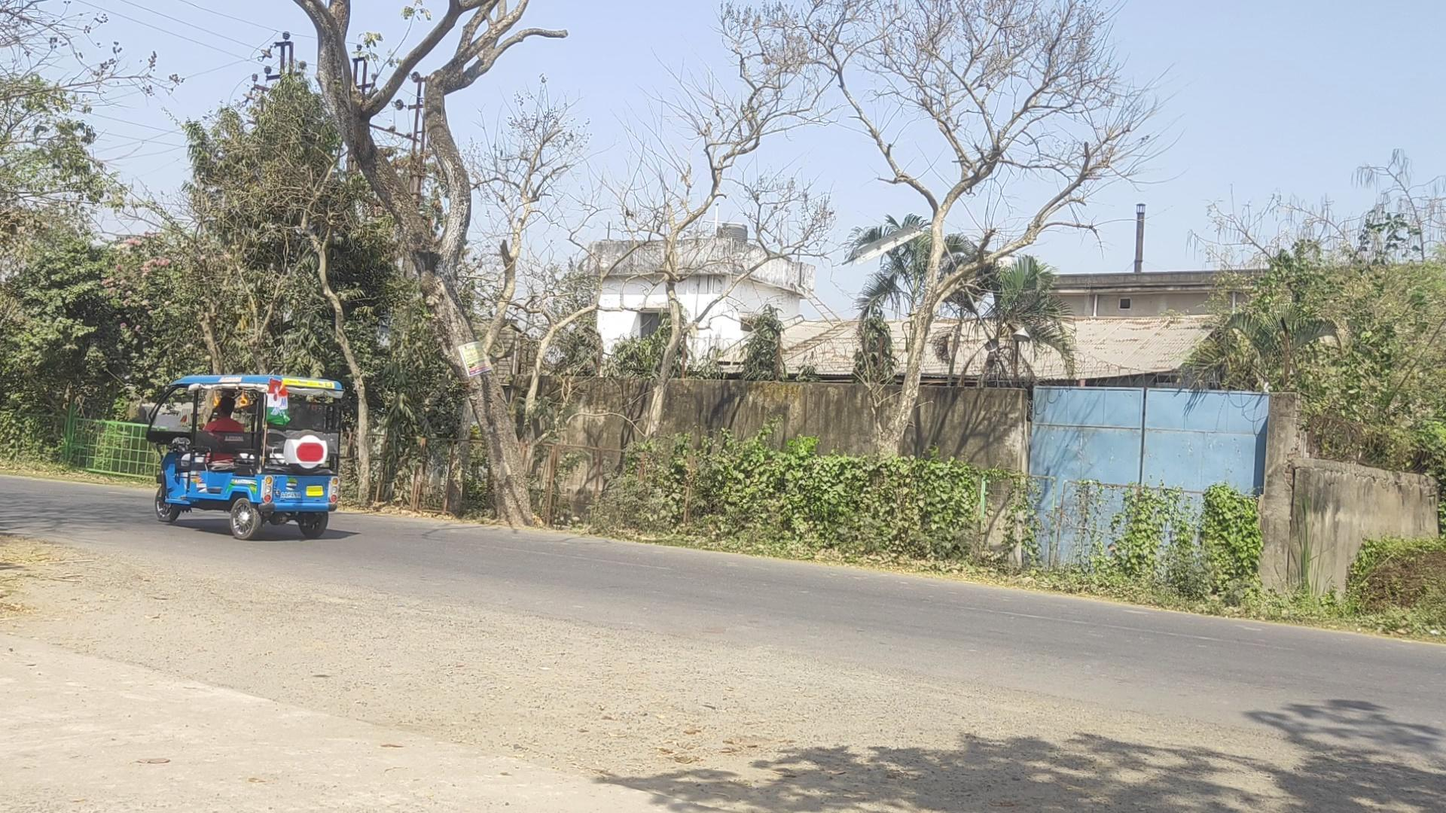Auto: (146, 374, 345, 540)
